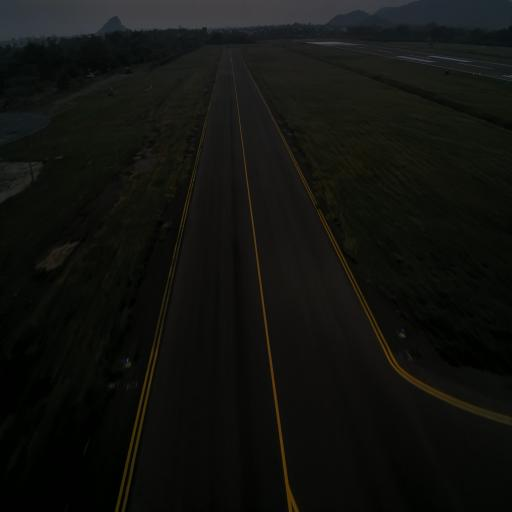on: (124, 352, 132, 374), (398, 325, 407, 342)
